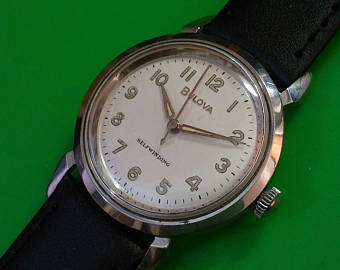clock: (75, 34, 285, 238)
